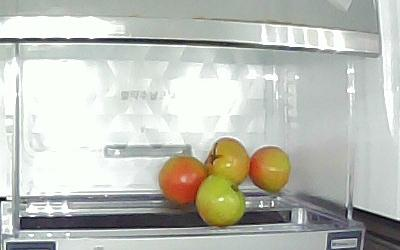tomato: (195, 176, 245, 227), (157, 156, 207, 206), (205, 138, 251, 186), (250, 146, 292, 194)
